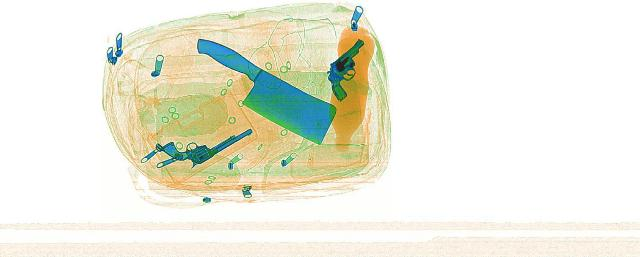Gun: (296, 38, 400, 101), (144, 118, 256, 167)
Knife: (147, 36, 377, 143)
